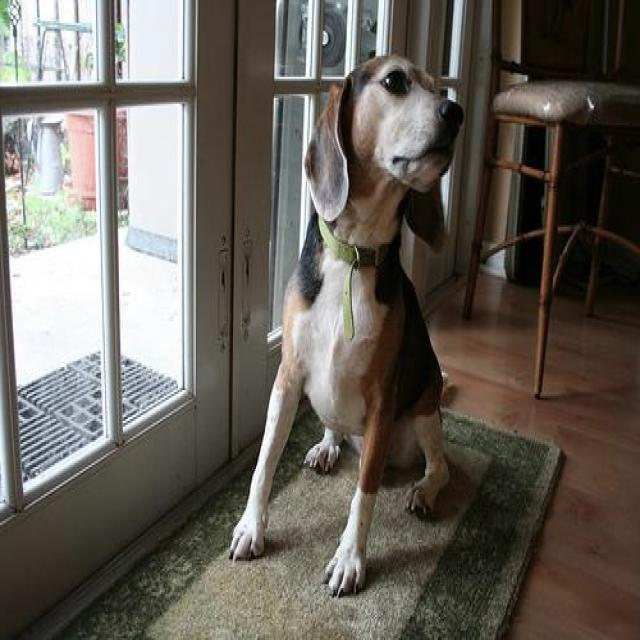beagle: (229, 40, 467, 590)
